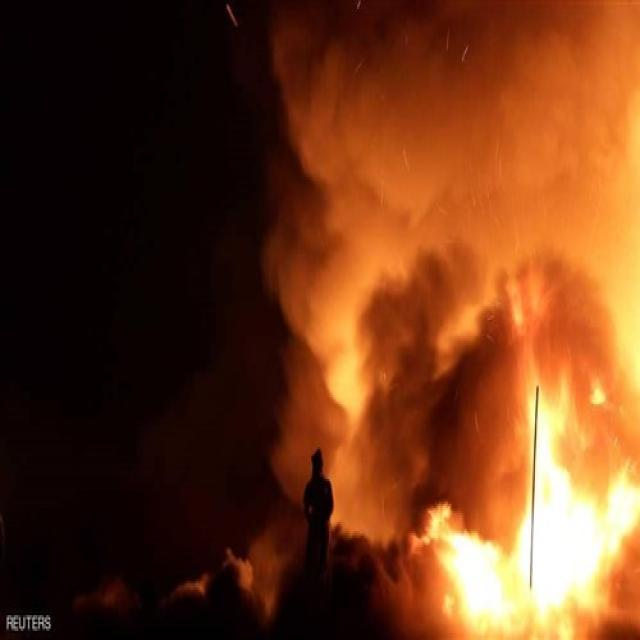Fire: (313, 328, 627, 624)
Smoke: (269, 44, 635, 624)
